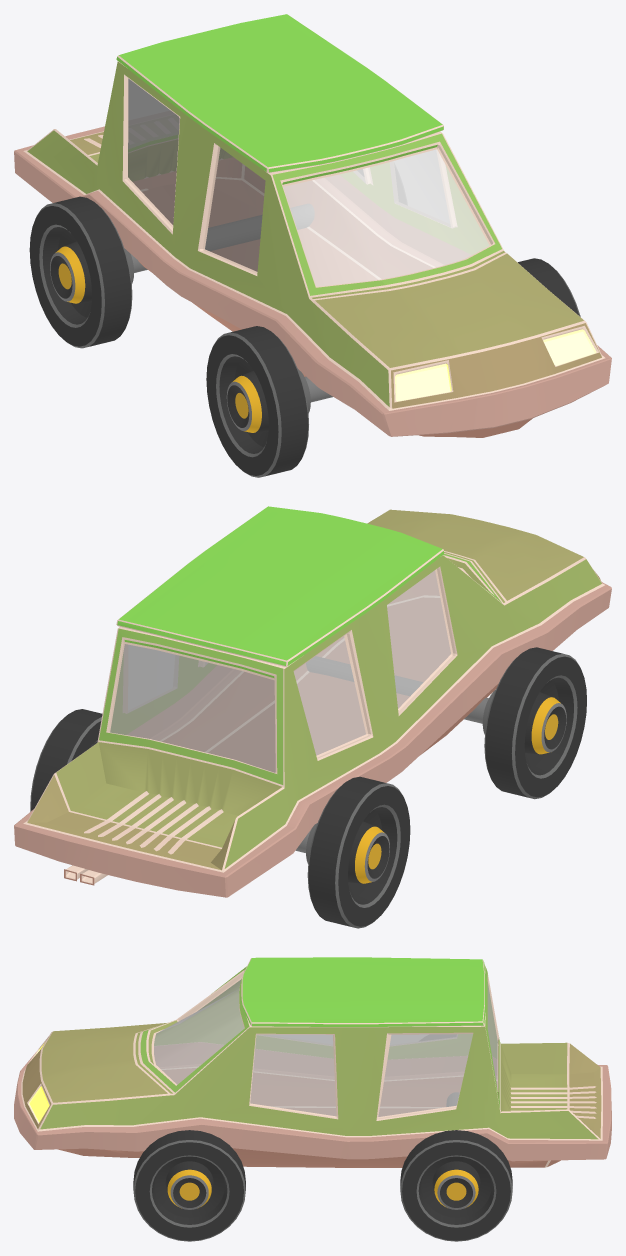
File: lowpolycar-jeep1-downsized.glb
The picture shows the model from 3 angles, top to bottom: view 1: azimuth 30°, elevation 25°; view 2: azimuth 150°, elevation 25°; view 3: azimuth 270°, elevation 25°; orthographic projection. The views are drawn at different scales.
Parts seen in each view (by area): view 1: Jeep, Räder.009; view 2: Jeep, Räder.009; view 3: Jeep, Räder.009.
Boxes of the visible parts, x1,y1,x2,y2 form: Jeep: (14, 14, 611, 437); Räder.009: (29, 196, 580, 477); Jeep: (14, 506, 611, 897); Räder.009: (30, 647, 586, 928); Jeep: (14, 957, 611, 1167); Räder.009: (133, 1092, 512, 1241).
Size of the model in its own units: 1.69 by 1.32 by 3.66.
Materials: 4 (2 with a texture image).
